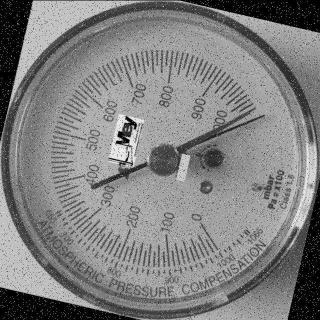gauge: (0, 0, 320, 320), (186, 213, 230, 256), (222, 91, 266, 133), (146, 141, 181, 177), (257, 108, 271, 122), (244, 109, 252, 118)
